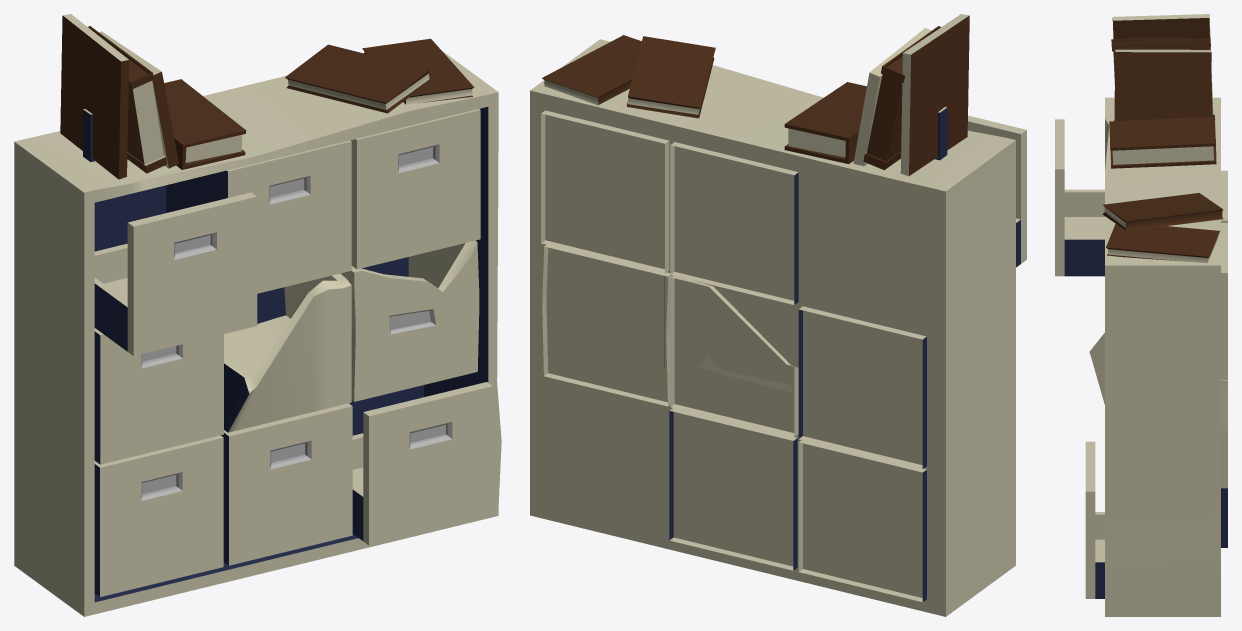
The model's file is Cabinet.fbx.
The picture shows the model from 3 angles, left to right: view 1: azimuth 30°, elevation 25°; view 2: azimuth 150°, elevation 25°; view 3: azimuth 270°, elevation 25°; orthographic projection. The views are drawn at different scales.
Visible parts, largest first — view 1: Cabinet_2_Uv; view 2: Cabinet_2_Uv; view 3: Cabinet_2_Uv.
Boxes of the visible parts, bbox=[...] form: Cabinet_2_Uv: bbox=[14, 14, 501, 616]; Cabinet_2_Uv: bbox=[530, 14, 1026, 616]; Cabinet_2_Uv: bbox=[1055, 14, 1227, 616].
Bounding box in the file's own units: 887 × 1108 × 384.
